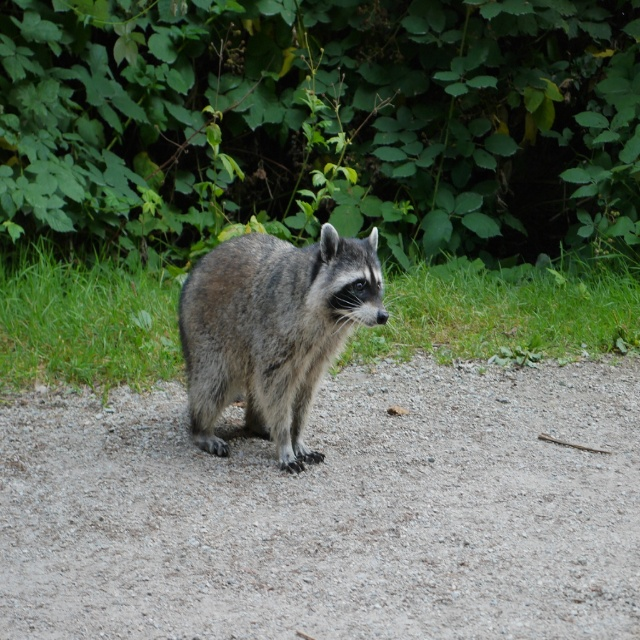Raccoon: (177, 222, 403, 476)
